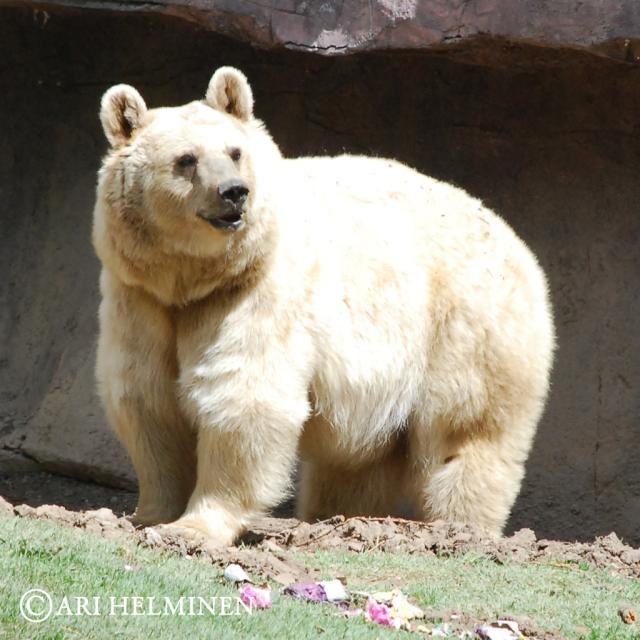Buffalo: (90, 67, 552, 545)
